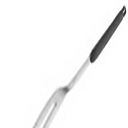Fork: (23, 5, 128, 128)
